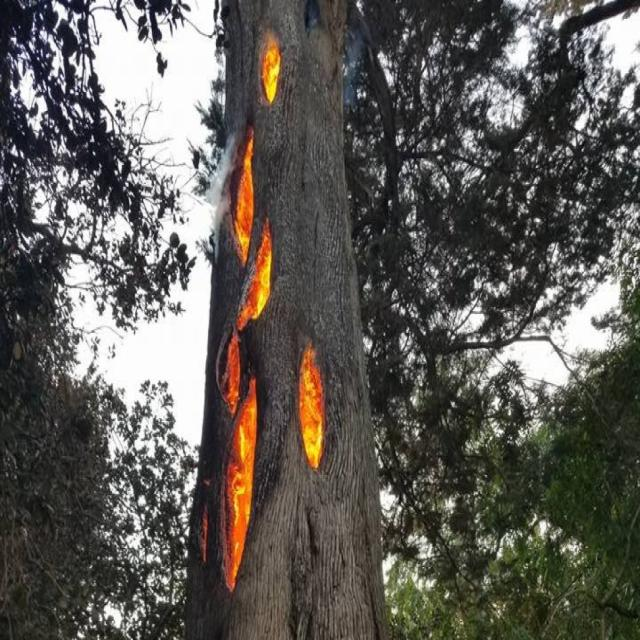Fire: (227, 140, 265, 576), (295, 350, 332, 474), (257, 28, 283, 112)
